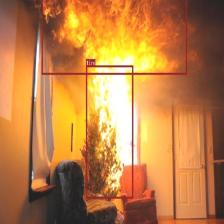fire: (41, 0, 186, 74), (86, 65, 132, 198)
